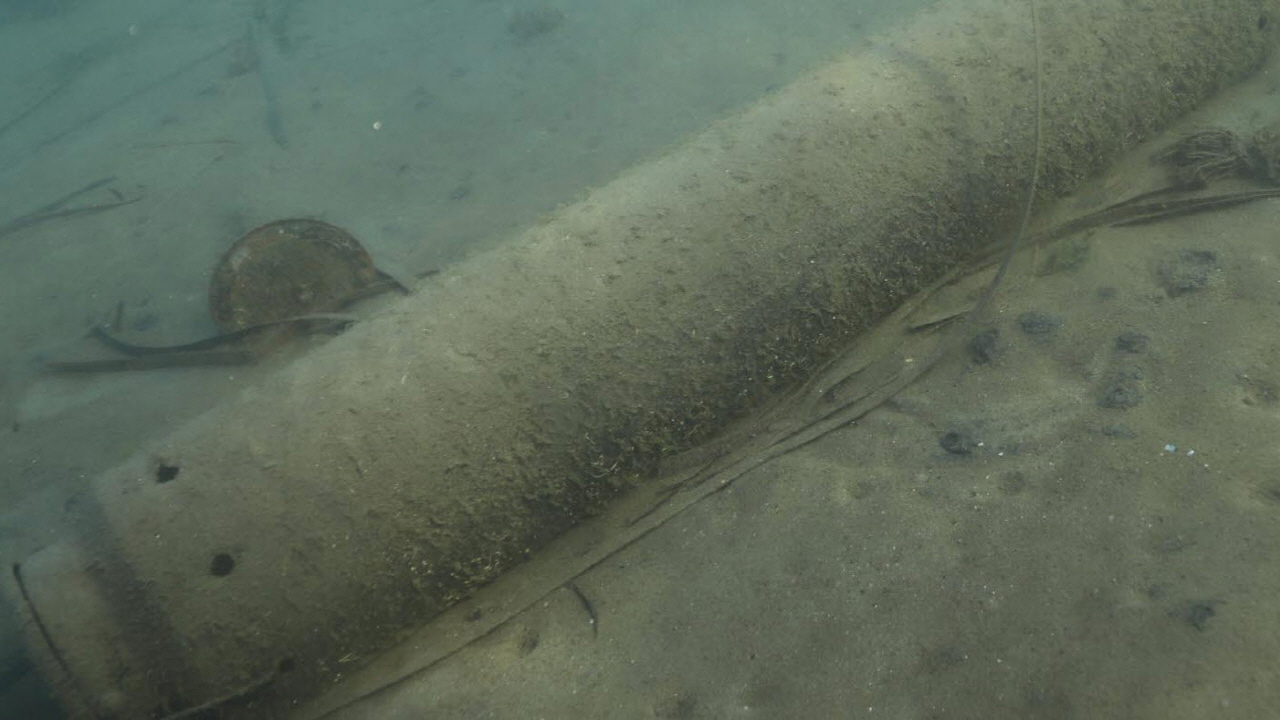eel fish trap: (0, 1, 1280, 720)
